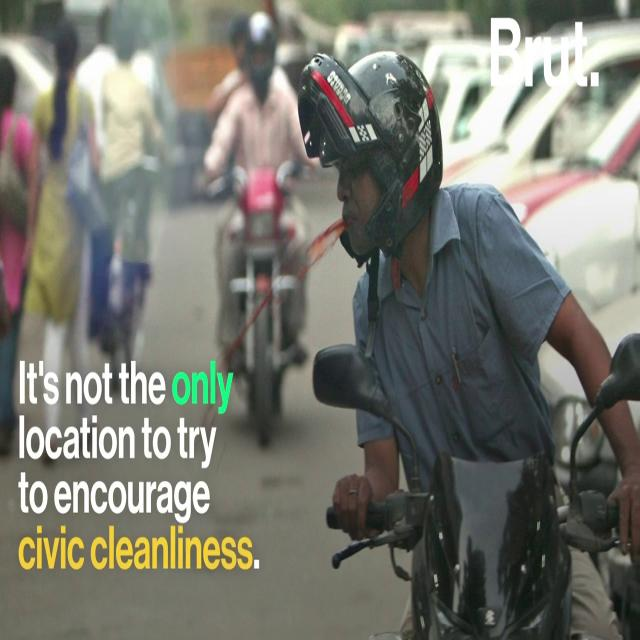spit: (189, 215, 365, 453)
